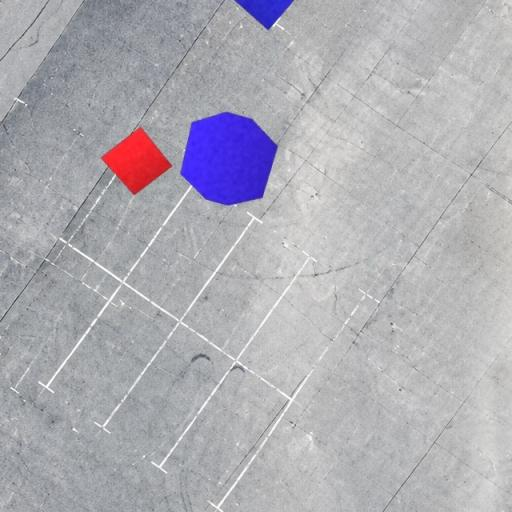RED_SQUARE: (100, 126, 173, 196)
